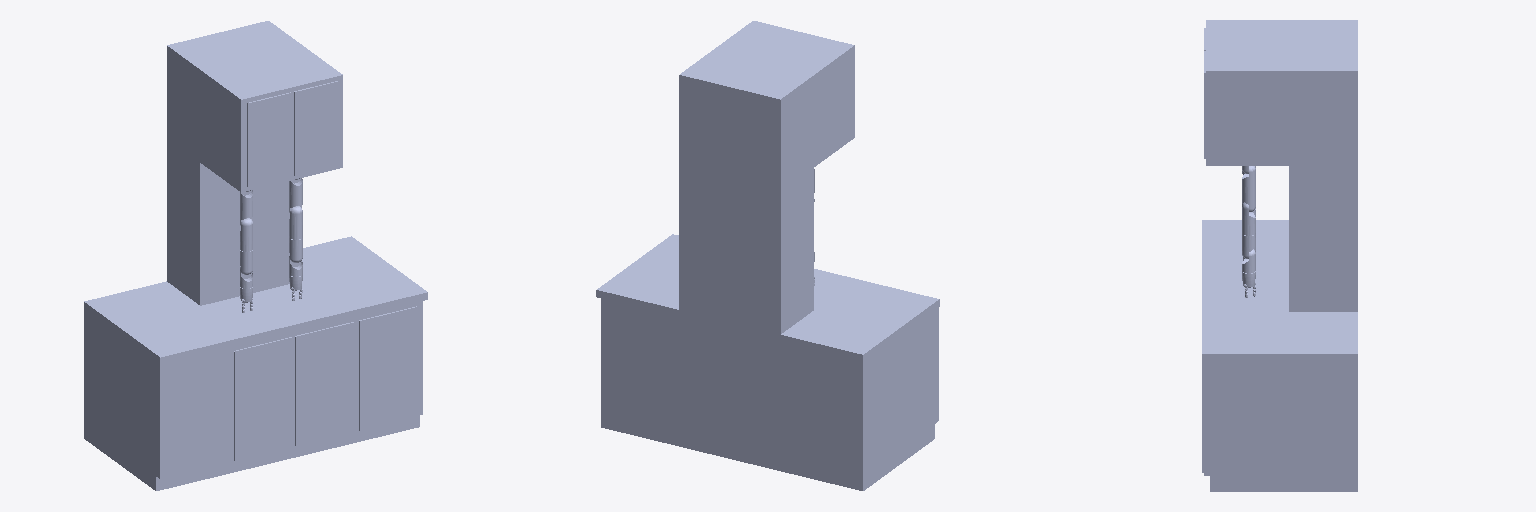
--- What the picture shows (computed from the rendered views, not written in the file) ---
The picture shows the robot from 3 angles, left to right: view 1: azimuth 30°, elevation 25°; view 2: azimuth 150°, elevation 25°; view 3: azimuth 270°, elevation 25°; orthographic projection.
Robot: robot_chef_prueba_v6 — 37 links, 36 joints (24 revolute, 6 continuous, 6 fixed); root link base_link; default pose: all joints at 0.
Visible links, largest first — view 1: base_link; view 2: base_link; view 3: base_link.
Link boxes in pixels (x1,y1,x2,y2): base_link: [84, 21, 427, 490]; base_link: [596, 21, 939, 490]; base_link: [1202, 20, 1357, 491].
Bounding box of the posed robot: 1.84 × 0.91 × 2.45 m (x, y, z).
Meshes: 37 distinct files referenced, 37 mesh visuals loaded (37 binary STL).

URDF robot description (robot_chef_prueba_v6):
<?xml version="1.0" encoding="utf-8"?>
<!-- This URDF was automatically created by SolidWorks to URDF Exporter! Originally created by Stephen Brawner ([email redacted]) 
     Commit Version: 1.5.1-0-g916b5db  Build Version: 1.5.7152.31018
     For more information, please see http://wiki.ros.org/sw_urdf_exporter -->
<robot
  name="robot_chef_prueba_v6">
  <link
    name="base_link">
    <inertial>
      <origin
        xyz="-0.037242 -0.4829 -0.87131"
        rpy="0 0 0" />
      <mass
        value="2114.6" />
      <inertia
        ixx="1214.9"
        ixy="0.31415"
        ixz="-8.4286"
        iyy="1499.6"
        iyz="-33.332"
        izz="570.71" />
    </inertial>
    <visual>
      <origin
        xyz="0 0 0"
        rpy="0 0 0" />
      <geometry>
        <mesh
          filename="package://robot_chef_prueba_v6/meshes/base_link.STL" />
      </geometry>
      <material
        name="">
        <color
          rgba="0.79216 0.81961 0.93333 1" />
      </material>
    </visual>
    <collision>
      <origin
        xyz="0 0 0"
        rpy="0 0 0" />
      <geometry>
        <mesh
          filename="package://robot_chef_prueba_v6/meshes/base_link.STL" />
      </geometry>
    </collision>
  </link>
  <link
    name="iz1_Link">
    <inertial>
      <origin
        xyz="0.046899019277028 0.00599386120501055 2.22519419557088E-10"
        rpy="0 0 0" />
      <mass
        value="0.450104915206598" />
      <inertia
        ixx="0.000334303263892515"
        ixy="9.96318726703731E-05"
        ixz="-1.67196559200719E-10"
        iyy="0.000690198693942158"
        iyz="3.88296382489624E-10"
        izz="0.000670525862276053" />
    </inertial>
    <visual>
      <origin
        xyz="0 0 0"
        rpy="0 0 0" />
      <geometry>
        <mesh
          filename="package://robot_chef_prueba_v6/meshes/iz1_Link.STL" />
      </geometry>
      <material
        name="">
        <color
          rgba="0.792156862745098 0.819607843137255 0.933333333333333 1" />
      </material>
    </visual>
    <collision>
      <origin
        xyz="0 0 0"
        rpy="0 0 0" />
      <geometry>
        <mesh
          filename="package://robot_chef_prueba_v6/meshes/iz1_Link.STL" />
      </geometry>
    </collision>
  </link>
  <joint
    name="i1"
    type="continuous">
    <origin
      xyz="-0.198356243226931 -0.7 0"
      rpy="3.14159265358979 -1.5707963267949 0" />
    <parent
      link="base_link" />
    <child
      link="iz1_Link" />
    <axis
      xyz="1 0 0" />
  </joint>
  <link
    name="iz2_Link">
    <inertial>
      <origin
        xyz="0.123170245762431 2.24128305997828E-07 -0.00580584423243669"
        rpy="0 0 0" />
      <mass
        value="1.05627303687569" />
      <inertia
        ixx="0.000800954354611823"
        ixy="-8.19290612147664E-09"
        ixz="1.82012426586531E-09"
        iyy="0.00563952897742919"
        iyz="-1.10969299836202E-09"
        izz="0.0056911560526873" />
    </inertial>
    <visual>
      <origin
        xyz="0 0 0"
        rpy="0 0 0" />
      <geometry>
        <mesh
          filename="package://robot_chef_prueba_v6/meshes/iz2_Link.STL" />
      </geometry>
      <material
        name="">
        <color
          rgba="0.792156862745098 0.819607843137255 0.933333333333333 1" />
      </material>
    </visual>
    <collision>
      <origin
        xyz="0 0 0"
        rpy="0 0 0" />
      <geometry>
        <mesh
          filename="package://robot_chef_prueba_v6/meshes/iz2_Link.STL" />
      </geometry>
    </collision>
  </link>
  <joint
    name="i2"
    type="revolute">
    <origin
      xyz="-0.00357189922674747 0 0"
      rpy="1.5707963267949 0 -3.14159265358979" />
    <parent
      link="iz1_Link" />
    <child
      link="iz2_Link" />
    <axis
      xyz="0 0 1" />
    <limit
      lower="-1.3963"
      upper="1.3963"
      effort="0"
      velocity="0" />
  </joint>
  <link
    name="iz3_Link">
    <inertial>
      <origin
        xyz="-0.0820008178809861 -2.51271962209421E-07 -0.00507737401116559"
        rpy="0 0 0" />
      <mass
        value="0.725662148891879" />
      <inertia
        ixx="0.00057017315857775"
        ixy="6.96000352801363E-09"
        ixz="0.000235262219959166"
        iyy="0.00221358505941085"
        iyz="8.70563297078182E-09"
        izz="0.00224067994548019" />
    </inertial>
    <visual>
      <origin
        xyz="0 0 0"
        rpy="0 0 0" />
      <geometry>
        <mesh
          filename="package://robot_chef_prueba_v6/meshes/iz3_Link.STL" />
      </geometry>
      <material
        name="">
        <color
          rgba="0.792156862745098 0.819607843137255 0.933333333333333 1" />
      </material>
    </visual>
    <collision>
      <origin
        xyz="0 0 0"
        rpy="0 0 0" />
      <geometry>
        <mesh
          filename="package://robot_chef_prueba_v6/meshes/iz3_Link.STL" />
      </geometry>
    </collision>
  </link>
  <joint
    name="i3"
    type="revolute">
    <origin
      xyz="0.248000000000001 0 0"
      rpy="3.14159265358979 0 -3.14159265358979" />
    <parent
      link="iz2_Link" />
    <child
      link="iz3_Link" />
    <axis
      xyz="0 0 1" />
    <limit
      lower="-1.3963"
      upper="1.3963"
      effort="0"
      velocity="0" />
  </joint>
  <link
    name="iz4_Link">
    <inertial>
      <origin
        xyz="-0.0936340655859038 -3.26723792187789E-08 -0.00454395848901257"
        rpy="0 0 0" />
      <mass
        value="0.613865486215885" />
      <inertia
        ixx="0.000458594108253679"
        ixy="-1.07774988503502E-09"
        ixz="-0.000141736411306983"
        iyy="0.00119500344851908"
        iyz="-2.94085219447195E-09"
        izz="0.00121551589680621" />
    </inertial>
    <visual>
      <origin
        xyz="0 0 0"
        rpy="0 0 0" />
      <geometry>
        <mesh
          filename="package://robot_chef_prueba_v6/meshes/iz4_Link.STL" />
      </geometry>
      <material
        name="">
        <color
          rgba="0.792156862745098 0.819607843137255 0.933333333333333 1" />
      </material>
    </visual>
    <collision>
      <origin
        xyz="0 0 0"
        rpy="0 0 0" />
      <geometry>
        <mesh
          filename="package://robot_chef_prueba_v6/meshes/iz4_Link.STL" />
      </geometry>
    </collision>
  </link>
  <joint
    name="i4"
    type="continuous">
    <origin
      xyz="-0.135000000000002 0 0"
      rpy="0.00240768248758283 0 0" />
    <parent
      link="iz3_Link" />
    <child
      link="iz4_Link" />
    <axis
      xyz="1 0 0" />
  </joint>
  <link
    name="iz5_Link">
    <inertial>
      <origin
        xyz="-0.052664238732409 -2.9966948608684E-07 -0.00770287929963565"
        rpy="0 0 0" />
      <mass
        value="0.441095544298267" />
      <inertia
        ixx="0.000334974664613456"
        ixy="-4.5518055062031E-09"
        ixz="0.00011176763930799"
        iyy="0.000773087753603316"
        iyz="9.9887682840268E-09"
        izz="0.000808220391854739" />
    </inertial>
    <visual>
      <origin
        xyz="0 0 0"
        rpy="0 0 0" />
      <geometry>
        <mesh
          filename="package://robot_chef_prueba_v6/meshes/iz5_Link.STL" />
      </geometry>
      <material
        name="">
        <color
          rgba="0.792156862745098 0.819607843137255 0.933333333333333 1" />
      </material>
    </visual>
    <collision>
      <origin
        xyz="0 0 0"
        rpy="0 0 0" />
      <geometry>
        <mesh
          filename="package://robot_chef_prueba_v6/meshes/iz5_Link.STL" />
      </geometry>
    </collision>
  </link>
  <joint
    name="i5"
    type="revolute">
    <origin
      xyz="-0.162999999999993 0 0"
      rpy="3.14159265358979 0 0" />
    <parent
      link="iz4_Link" />
    <child
      link="iz5_Link" />
    <axis
      xyz="0 0 1" />
    <limit
      lower="-1.2217"
      upper="1.3963"
      effort="0"
      velocity="0" />
  </joint>
  <link
    name="iz6_Link">
    <inertial>
      <origin
        xyz="-0.0703002600247344 4.1717175203182E-07 -2.1094237467878E-15"
        rpy="0 0 0" />
      <mass
        value="0.412559191037482" />
      <inertia
        ixx="0.000291363474329428"
        ixy="6.20991320193826E-09"
        ixz="-2.01551792960855E-16"
        iyy="0.000379319131169277"
        iyz="-8.62997824244149E-16"
        izz="0.000379318429622878" />
    </inertial>
    <visual>
      <origin
        xyz="0 0 0"
        rpy="0 0 0" />
      <geometry>
        <mesh
          filename="package://robot_chef_prueba_v6/meshes/iz6_Link.STL" />
      </geometry>
      <material
        name="">
        <color
          rgba="0.792156862745098 0.819607843137255 0.933333333333333 1" />
      </material>
    </visual>
    <collision>
      <origin
        xyz="0 0 0"
        rpy="0 0 0" />
      <geometry>
        <mesh
          filename="package://robot_chef_prueba_v6/meshes/iz6_Link.STL" />
      </geometry>
    </collision>
  </link>
  <joint
    name="i6"
    type="continuous">
    <origin
      xyz="-0.0800000000000022 0 0"
      rpy="-0.523598775598298 0 0" />
    <parent
      link="iz5_Link" />
    <child
      link="iz6_Link" />
    <axis
      xyz="1 0 0" />
  </joint>
  <link
    name="iz6_11Link">
    <inertial>
      <origin
        xyz="0.002073 0 -0.0020381"
        rpy="0 0 0" />
      <mass
        value="0.0067607" />
      <inertia
        ixx="4.6872E-07"
        ixy="-3.8381E-22"
        ixz="-5.2221E-08"
        iyy="3.186E-07"
        iyz="3.6396E-23"
        izz="4.7056E-07" />
    </inertial>
    <visual>
      <origin
        xyz="0 0 0"
        rpy="0 0 0" />
      <geometry>
        <mesh
          filename="package://robot_chef_prueba_v6/meshes/iz6_11Link.STL" />
      </geometry>
      <material
        name="">
        <color
          rgba="0.79216 0.81961 0.93333 1" />
      </material>
    </visual>
    <collision>
      <origin
        xyz="0 0 0"
        rpy="0 0 0" />
      <geometry>
        <mesh
          filename="package://robot_chef_prueba_v6/meshes/iz6_11Link.STL" />
      </geometry>
    </collision>
  </link>
  <joint
    name="i6_11"
    type="revolute">
    <origin
      xyz="-0.112 0.0121 0.020958"
      rpy="1.5708 -1.0472 1.5708" />
    <parent
      link="iz6_Link" />
    <child
      link="iz6_11Link" />
    <axis
      xyz="0 1 0" />
    <limit
      lower="-0.34907"
      upper="0.34907"
      effort="0"
      velocity="0" />
  </joint>
  <link
    name="iz6_12Link">
    <inertial>
      <origin
        xyz="0.014835 1.5186E-11 -2.5109E-05"
        rpy="0 0 0" />
      <mass
        value="0.003519" />
      <inertia
        ixx="1.2963E-07"
        ixy="-2.0603E-16"
        ixz="-9.698E-14"
        iyy="1.8447E-07"
        iyz="1.5253E-11"
        izz="2.2932E-07" />
    </inertial>
    <visual>
      <origin
        xyz="0 0 0"
        rpy="0 0 0" />
      <geometry>
        <mesh
          filename="package://robot_chef_prueba_v6/meshes/iz6_12Link.STL" />
      </geometry>
      <material
        name="">
        <color
          rgba="0.79216 0.81961 0.93333 1" />
      </material>
    </visual>
    <collision>
      <origin
        xyz="0 0 0"
        rpy="0 0 0" />
      <geometry>
        <mesh
          filename="package://robot_chef_prueba_v6/meshes/iz6_12Link.STL" />
      </geometry>
    </collision>
  </link>
  <joint
    name="i6_12"
    type="fixed">
    <origin
      xyz="0.00794974746830573 0 -0.00494974746830568"
      rpy="0 1.5707963267949 0" />
    <parent
      link="iz6_11Link" />
    <child
      link="iz6_12Link" />
    <axis
      xyz="0 0 0" />
  </joint>
  <link
    name="iz6_13Link">
    <inertial>
      <origin
        xyz="-0.014397 1.1102E-16 -5.2807E-05"
        rpy="0 0 0" />
      <mass
        value="0.0048858" />
      <inertia
        ixx="1.5827E-07"
        ixy="4.9687E-14"
        ixz="7.9359E-11"
        iyy="3.9472E-07"
        iyz="4.0009E-12"
        izz="3.4484E-07" />
    </inertial>
    <visual>
      <origin
        xyz="0 0 0"
        rpy="0 0 0" />
      <geometry>
        <mesh
          filename="package://robot_chef_prueba_v6/meshes/iz6_13Link.STL" />
      </geometry>
      <material
        name="">
        <color
          rgba="0.79216 0.81961 0.93333 1" />
      </material>
    </visual>
    <collision>
      <origin
        xyz="0 0 0"
        rpy="0 0 0" />
      <geometry>
        <mesh
          filename="package://robot_chef_prueba_v6/meshes/iz6_13Link.STL" />
      </geometry>
    </collision>
  </link>
  <joint
    name="i6_13"
    type="revolute">
    <origin
      xyz="0.0244852813742378 0 0"
      rpy="3.14159265358979 0 3.14159265358979" />
    <parent
      link="iz6_12Link" />
    <child
      link="iz6_13Link" />
    <axis
      xyz="0 1 0" />
    <limit
      lower="0"
      upper="0.69813"
      effort="0"
      velocity="0" />
  </joint>
  <link
    name="iz6_14Link">
    <inertial>
      <origin
        xyz="0.011439 -7.5592E-12 1.2074E-11"
        rpy="0 0 0" />
      <mass
        value="0.0051527" />
      <inertia
        ixx="1.9908E-07"
        ixy="-1.6224E-16"
        ixz="7.093E-16"
        iyy="3.043E-07"
        iyz="-1.1218E-13"
        izz="3.2265E-07" />
    </inertial>
    <visual>
      <origin
        xyz="0 0 0"
        rpy="0 0 0" />
      <geometry>
        <mesh
          filename="package://robot_chef_prueba_v6/meshes/iz6_14Link.STL" />
      </geometry>
      <material
        name="">
        <color
          rgba="0.79216 0.81961 0.93333 1" />
      </material>
    </visual>
    <collision>
      <origin
        xyz="0 0 0"
        rpy="0 0 0" />
      <geometry>
        <mesh
          filename="package://robot_chef_prueba_v6/meshes/iz6_14Link.STL" />
      </geometry>
    </collision>
  </link>
  <joint
    name="i6_14"
    type="revolute">
    <origin
      xyz="-0.0300000000000008 0 -5.38898154983092E-05"
      rpy="3.14159265358979 0 3.14159265358979" />
    <parent
      link="iz6_13Link" />
    <child
      link="iz6_14Link" />
    <axis
      xyz="0 1 0" />
    <limit
      lower="0"
      upper="1.0472"
      effort="0"
      velocity="0" />
  </joint>
  <link
    name="iz6_21Link">
    <inertial>
      <origin
        xyz="0.00207298341630333 3.33066907387547E-16 -0.00203813228672634"
        rpy="0 0 0" />
      <mass
        value="0.00676074066693878" />
      <inertia
        ixx="4.68720414197714E-07"
        ixy="-1.45583787809333E-22"
        ixz="-5.22208672124069E-08"
        iyy="3.1860119381616E-07"
        iyz="1.22422730657848E-22"
        izz="4.70556835793397E-07" />
    </inertial>
    <visual>
      <origin
        xyz="0 0 0"
        rpy="0 0 0" />
      <geometry>
        <mesh
          filename="package://robot_chef_prueba_v6/meshes/iz6_21Link.STL" />
      </geometry>
      <material
        name="">
        <color
          rgba="0.792156862745098 0.819607843137255 0.933333333333333 1" />
      </material>
    </visual>
    <collision>
      <origin
        xyz="0 0 0"
        rpy="0 0 0" />
      <geometry>
        <mesh
          filename="package://robot_chef_prueba_v6/meshes/iz6_21Link.STL" />
      </geometry>
    </collision>
  </link>
  <joint
    name="i6_21"
    type="revolute">
    <origin
      xyz="-0.111980256121069 -0.0241447734505178 0"
      rpy="-1.5707963267949 0 -1.5707963267949" />
    <parent
      link="iz6_Link" />
    <child
      link="iz6_21Link" />
    <axis
      xyz="0 1 0" />
    <limit
      lower="-0.34907"
      upper="0.34907"
      effort="0"
      velocity="0" />
  </joint>
  <link
    name="iz6_22Link">
    <inertial>
      <origin
        xyz="0.0147808838974951 3.2568392427379E-12 -7.73357572425581E-10"
        rpy="0 0 0" />
      <mass
        value="0.00353863572563513" />
      <inertia
        ixx="1.30103088217276E-07"
        ixy="1.60995021566037E-16"
        ixz="-9.6924110433585E-14"
        iyy="1.84942425350664E-07"
        iyz="1.52525804205835E-11"
        izz="2.29378189918398E-07" />
    </inertial>
    <visual>
      <origin
        xyz="0 0 0"
        rpy="0 0 0" />
      <geometry>
        <mesh
          filename="package://robot_chef_prueba_v6/meshes/iz6_22Link.STL" />
      </geometry>
      <material
        name="">
        <color
          rgba="0.792156862745098 0.819607843137255 0.933333333333333 1" />
      </material>
    </visual>
    <collision>
      <origin
        xyz="0 0 0"
        rpy="0 0 0" />
      <geometry>
        <mesh
          filename="package://robot_chef_prueba_v6/meshes/iz6_22Link.STL" />
      </geometry>
    </collision>
  </link>
  <joint
    name="i6_22"
    type="fixed">
    <origin
      xyz="0.0079497474683059 0 -0.00494974746830568"
      rpy="0 1.5707963267949 0" />
    <parent
      link="iz6_21Link" />
    <child
      link="iz6_22Link" />
    <axis
      xyz="0 0 0" />
  </joint>
  <link
    name="iz6_23Link">
    <inertial>
      <origin
        xyz="-0.0143971864964466 -2.22044604925031E-16 -5.28069651649921E-05"
        rpy="0 0 0" />
      <mass
        value="0.00488582803282185" />
      <inertia
        ixx="1.58268955272717E-07"
        ixy="4.96872175482905E-14"
        ixz="7.93592997103557E-11"
        iyy="3.94717166797732E-07"
        iyz="4.00086107293317E-12"
        izz="3.44839984171498E-07" />
    </inertial>
    <visual>
      <origin
        xyz="0 0 0"
        rpy="0 0 0" />
      <geometry>
        <mesh
          filename="package://robot_chef_prueba_v6/meshes/iz6_23Link.STL" />
      </geometry>
      <material
        name="">
        <color
          rgba="0.792156862745098 0.819607843137255 0.933333333333333 1" />
      </material>
    </visual>
    <collision>
      <origin
        xyz="0 0 0"
        rpy="0 0 0" />
      <geometry>
        <mesh
          filename="package://robot_chef_prueba_v6/meshes/iz6_23Link.STL" />
      </geometry>
    </collision>
  </link>
  <joint
    name="i6_23"
    type="revolute">
    <origin
      xyz="0.0244852813742391 0 0"
      rpy="0 0 3.14159265358979" />
    <parent
      link="iz6_22Link" />
    <child
      link="iz6_23Link" />
    <axis
      xyz="0 1 0" />
    <limit
      lower="-0.69813"
      upper="0"
      effort="0"
      velocity="0" />
  </joint>
  <link
    name="iz6_24Link">
    <inertial>
      <origin
        xyz="0.011438965446775 3.09641201567956E-12 1.00829344873432E-11"
        rpy="0 0 0" />
      <mass
        value="0.00515270612839311" />
      <inertia
        ixx="1.99078387827487E-07"
        ixy="4.41115249740252E-16"
        ixz="5.3967047123003E-16"
        iyy="3.04304176822823E-07"
        iyz="-1.12022111777851E-13"
        izz="3.22653914398189E-07" />
    </inertial>
    <visual>
      <origin
        xyz="0 0 0"
        rpy="0 0 0" />
      <geometry>
        <mesh
          filename="package://robot_chef_prueba_v6/meshes/iz6_24Link.STL" />
      </geometry>
      <material
        name="">
        <color
          rgba="0.792156862745098 0.819607843137255 0.933333333333333 1" />
      </material>
    </visual>
    <collision>
      <origin
        xyz="0 0 0"
        rpy="0 0 0" />
      <geometry>
        <mesh
          filename="package://robot_chef_prueba_v6/meshes/iz6_24Link.STL" />
      </geometry>
    </collision>
  </link>
  <joint
    name="i6_24"
    type="revolute">
    <origin
      xyz="-0.0299999999999999 0 -5.38898154972822E-05"
      rpy="0 0 3.14159265358979" />
    <parent
      link="iz6_23Link" />
    <child
      link="iz6_24Link" />
    <axis
      xyz="0 1 0" />
    <limit
      lower="0"
      upper="1.0472"
      effort="0"
      velocity="0" />
  </joint>
  <link
    name="iz6_31Link">
    <inertial>
      <origin
        xyz="0.00207298341630247 -9.71445146547012E-16 -0.00203813228672678"
        rpy="0 0 0" />
      <mass
        value="0.00676074066693878" />
      <inertia
        ixx="4.68720414197715E-07"
        ixy="-1.89293045352401E-20"
        ixz="-5.22208672124072E-08"
        iyy="3.1860119381616E-07"
        iyz="4.66286802159989E-20"
        izz="4.70556835793398E-07" />
    </inertial>
    <visual>
      <origin
        xyz="0 0 0"
        rpy="0 0 0" />
      <geometry>
        <mesh
          filename="package://robot_chef_prueba_v6/meshes/iz6_31Link.STL" />
      </geometry>
      <material
        name="">
        <color
          rgba="0.792156862745098 0.819607843137255 0.933333333333333 1" />
      </material>
    </visual>
    <collision>
      <origin
        xyz="0 0 0"
        rpy="0 0 0" />
      <geometry>
        <mesh
          filename="package://robot_chef_prueba_v6/meshes/iz6_31Link.STL" />
      </geometry>
    </collision>
  </link>
  <joint
    name="i6_31"
    type="revolute">
    <origin
      xyz="-0.112000000000001 0.0121 -0.0209578147715833"
      rpy="1.5707963267952 1.04719755119658 1.5707963267949" />
    <parent
      link="iz6_Link" />
    <child
      link="iz6_31Link" />
    <axis
      xyz="0 1 0" />
    <limit
      lower="-0.34907"
      upper="0.34907"
      effort="0"
      velocity="0" />
  </joint>
  <link
    name="iz6_32Link">
    <inertial>
      <origin
        xyz="0.0148354582126317 1.51857415531254E-11 2.51078533057836E-05"
        rpy="0 0 0" />
      <mass
        value="0.00351900075828717" />
      <inertia
        ixx="1.29628985849003E-07"
        ixy="-2.06025289654529E-16"
        ixz="-9.69797811870158E-14"
        iyy="1.84468321490573E-07"
        iyz="1.52526941879369E-11"
        izz="2.29316828938797E-07" />
    </inertial>
    <visual>
      <origin
        xyz="0 0 0"
        rpy="0 0 0" />
      <geometry>
        <mesh
          filename="package://robot_chef_prueba_v6/meshes/iz6_32Link.STL" />
      </geometry>
      <material
        name="">
        <color
          rgba="0.792156862745098 0.819607843137255 0.933333333333333 1" />
      </material>
    </visual>
    <collision>
      <origin
        xyz="0 0 0"
        rpy="0 0 0" />
      <geometry>
        <mesh
          filename="package://robot_chef_prueba_v6/meshes/iz6_32Link.STL" />
      </geometry>
    </collision>
  </link>
  <joint
    name="i6_32"
    type="fixed">
    <origin
      xyz="0.0079497474683059 0 -0.00494974746830579"
      rpy="3.14159263868863 1.5707963267949 0" />
    <parent
      link="iz6_31Link" />
    <child
      link="iz6_32Link" />
    <axis
      xyz="0 0 0" />
  </joint>
  <link
    name="iz6_33Link">
    <inertial>
      <origin
        xyz="-0.0143971864964463 2.38697950294409E-15 -5.28069651656304E-05"
        rpy="0 0 0" />
      <mass
        value="0.00488582803282169" />
      <inertia
        ixx="1.58268955272713E-07"
        ixy="4.96872173811149E-14"
        ixz="7.93592997099076E-11"
        iyy="3.94717166797715E-07"
        iyz="4.00086107403038E-12"
        izz="3.4483998417148E-07" />
    </inertial>
    <visual>
      <origin
        xyz="0 0 0"
        rpy="0 0 0" />
      <geometry>
        <mesh
          filename="package://robot_chef_prueba_v6/meshes/iz6_33Link.STL" />
      </geometry>
      <material
        name="">
        <color
          rgba="0.792156862745098 0.819607843137255 0.933333333333333 1" />
      </material>
    </visual>
    <collision>
      <origin
        xyz="0 0 0"
        rpy="0 0 0" />
      <geometry>
        <mesh
          filename="package://robot_chef_prueba_v6/meshes/iz6_33Link.STL" />
      </geometry>
    </collision>
  </link>
  <joint
    name="i6_33"
    type="revolute">
    <origin
      xyz="0.0244852813742388 0 0"
      rpy="0 0 3.14159265358979" />
    <parent
      link="iz6_32Link" />
    <child
      link="iz6_33Link" />
    <axis
      xyz="0 1 0" />
    <limit
      lower="0"
      upper="0.69813"
      effort="0"
      velocity="0" />
  </joint>
  <link
    name="iz6_34Link">
    <inertial>
      <origin
        xyz="0.011439 3.0959E-12 1.0083E-11"
        rpy="0 0 0" />
      <mass
        value="0.0051527" />
      <inertia
        ixx="1.9908E-07"
        ixy="4.4112E-16"
        ixz="5.3967E-16"
        iyy="3.043E-07"
        iyz="-1.1202E-13"
        izz="3.2265E-07" />
    </inertial>
    <visual>
      <origin
        xyz="0 0 0"
        rpy="0 0 0" />
      <geometry>
        <mesh
          filename="package://robot_chef_prueba_v6/meshes/iz6_34Link.STL" />
      </geometry>
      <material
        name="">
        <color
          rgba="0.79216 0.81961 0.93333 1" />
      </material>
    </visual>
    <collision>
      <origin
        xyz="0 0 0"
        rpy="0 0 0" />
      <geometry>
        <mesh
          filename="package://robot_chef_prueba_v6/meshes/iz6_34Link.STL" />
      </geometry>
    </collision>
  </link>
  <joint
    name="i6_34"
    type="revolute">
    <origin
      xyz="-0.0299999999999999 0 -5.38898154979206E-05"
      rpy="0 0 3.14159265358979" />
    <parent
      link="iz6_33Link" />
    <child
      link="iz6_34Link" />
    <axis
      xyz="0 1 0" />
    <limit
      lower="-1.0472"
      upper="0"
      effort="0"
      velocity="0" />
  </joint>
  <link
    name="de1_Link">
    <inertial>
      <origin
        xyz="0.046899 0.0059939 2.2252E-10"
        rpy="0 0 0" />
      <mass
        value="0.4501" />
      <inertia
        ixx="0.0003343"
        ixy="9.9632E-05"
        ixz="-1.672E-10"
        iyy="0.0006902"
        iyz="3.883E-10"
        izz="0.00067053" />
    </inertial>
    <visual>
      <origin
        xyz="0 0 0"
        rpy="0 0 0" />
      <geometry>
        <mesh
          filename="package://robot_chef_prueba_v6/meshes/de1_Link.STL" />
      </geometry>
      <material
        name="">
        <color
          rgba="0.79216 0.81961 0.93333 1" />
      </material>
    </visual>
    <collision>
      <origin
        xyz="0 0 0"
        rpy="0 0 0" />
      <geometry>
        <mesh
          filename="package://robot_chef_prueba_v6/meshes/de1_Link.STL" />
      </geometry>
    </collision>
  </link>
  <joint
    name="d1"
    type="continuous">
    <origin
      xyz="0.14164375677307 -0.7 0"
      rpy="3.1347714600349 -1.5707963267949 0" />
    <parent
      link="base_link" />
    <child
      link="de1_Link" />
    <axis
      xyz="1 0 0" />
  </joint>
  <link
    name="de2_Link">
    <inertial>
      <origin
        xyz="0.123170214478795 9.0971106384341E-05 -0.00580582176623101"
        rpy="0 0 0" />
      <mass
        value="1.0562732565036" />
      <inertia
        ixx="0.000800957406783288"
        ixy="-3.57261281014573E-06"
        ixz="1.92382598231357E-09"
        iyy="0.00563952595673453"
        iyz="-1.07608583509343E-09"
        izz="0.00569115678280626" />
    </inertial>
    <visual>
      <origin
        xyz="0 0 0"
        rpy="0 0 0" />
      <geometry>
        <mesh
          filename="package://robot_chef_prueba_v6/meshes/de2_Link.STL" />
      </geometry>
      <material
        name="">
        <color
          rgba="0.792156862745098 0.819607843137255 0.933333333333333 1" />
      </material>
    </visual>
    <collision>
      <origin
        xyz="0 0 0"
        rpy="0 0 0" />
      <geometry>
        <mesh
          filename="package://robot_chef_prueba_v6/meshes/de2_Link.STL" />
      </geometry>
    </collision>
  </link>
  <joint
    name="d2"
    type="revolute">
    <origin
      xyz="-0.00357189922674735 0 0"
      rpy="1.57079632679489 0 3.14159265302779" />
    <parent
      link="de1_Link" />
    <child
      link="de2_Link" />
    <axis
      xyz="0 0 1" />
    <limit
      lower="-1.3963"
      upper="1.3963"
      effort="0"
      velocity="0" />
  </joint>
  <link
    name="de3_Link">
    <inertial>
      <origin
        xyz="-0.0820007599456525 0.000182478641151729 -0.00507736778635681"
        rpy="0 0 0" />
      <mass
        value="0.725662074286973" />
      <inertia
        ixx="0.000570173201368613"
        ixy="6.53209317159868E-09"
        ixz="0.000235262196735889"
        iyy="0.00221358517979188"
        iyz="8.50220677416753E-09"
        izz="0.00224067903647917" />
    </inertial>
    <visual>
      <origin
        xyz="0 0 0"
        rpy="0 0 0" />
      <geometry>
        <mesh
          filename="package://robot_chef_prueba_v6/meshes/de3_Link.STL" />
      </geometry>
      <material
        name="">
        <color
          rgba="0.792156862745098 0.819607843137255 0.933333333333333 1" />
      </material>
    </visual>
    <collision>
      <origin
        xyz="0 0 0"
        rpy="0 0 0" />
      <geometry>
        <mesh
          filename="package://robot_chef_prueba_v6/meshes/de3_Link.STL" />
      </geometry>
    </collision>
  </link>
  <joint
    name="d3"
    type="revolute">
    <origin
      xyz="0.248 0 0"
      rpy="3.14159265358979 0 3.14159250263411" />
    <parent
      link="de2_Link" />
    <child
      link="de3_Link" />
    <axis
      xyz="0 0 1" />
    <limit
      lower="-1.3963"
      upper="1.3963"
      effort="0"
      velocity="0" />
  </joint>
  <link
    name="de4_Link">
    <inertial>
      <origin
        xyz="-0.0936339918477448 0.000182680104167721 -0.00454394427635862"
        rpy="0 0 0" />
      <mass
        value="0.613865661046716" />
      <inertia
        ixx="0.000458594275799547"
        ixy="-1.02156716716133E-09"
        ixz="-0.00014173637060252"
        iyy="0.0011950033793905"
        iyz="-2.7894848142881E-09"
        izz="0.00121551627347461" />
    </inertial>
    <visual>
      <origin
        xyz="0 0 0"
        rpy="0 0 0" />
      <geometry>
        <mesh
          filename="package://robot_chef_prueba_v6/meshes/de4_Link.STL" />
      </geometry>
      <material
        name="">
        <color
          rgba="0.792156862745098 0.819607843137255 0.933333333333333 1" />
      </material>
    </visual>
    <collision>
      <origin
        xyz="0 0 0"
        rpy="0 0 0" />
      <geometry>
        <mesh
          filename="package://robot_chef_prueba_v6/meshes/de4_Link.STL" />
      </geometry>
    </collision>
  </link>
  <joint
    name="d4"
    type="continuous">
    <origin
      xyz="-0.135000005935467 0 0"
      rpy="0 0 0" />
    <parent
      link="de3_Link" />
    <child
      link="de4_Link" />
    <axis
      xyz="1 0 0" />
  </joint>
  <link
    name="de5_Link">
    <inertial>
      <origin
        xyz="-0.0526641873849999 -0.00018299393018642 -0.00770286576105161"
        rpy="0 0 0" />
      <mass
        value="0.441095446672236" />
      <inertia
        ixx="0.000334974668607833"
        ixy="-4.54383162948584E-09"
        ixz="0.000111767660106979"
        iyy="0.000773088201308897"
        iyz="9.24505582886993E-09"
        izz="0.000808219573594617" />
    </inertial>
    <visual>
      <origin
        xyz="0 0 0"
        rpy="0 0 0" />
      <geometry>
        <mesh
          filename="package://robot_chef_prueba_v6/meshes/de5_Link.STL" />
      </geometry>
      <material
        name="">
        <color
          rgba="0.792156862745098 0.819607843137255 0.933333333333333 1" />
      </material>
    </visual>
    <collision>
      <origin
        xyz="0 0 0"
        rpy="0 0 0" />
      <geometry>
        <mesh
          filename="package://robot_chef_prueba_v6/meshes/de5_Link.STL" />
      </geometry>
    </collision>
  </link>
  <joint
    name="d5"
    type="revolute">
    <origin
      xyz="-0.162999994064533 0 0"
      rpy="3.14159265358979 0 0" />
    <parent
      link="de4_Link" />
    <child
      link="de5_Link" />
    <axis
      xyz="0 0 1" />
    <limit
      lower="-1.2217"
      upper="1.2217"
      effort="0"
      velocity="0" />
  </joint>
  <link
    name="de6_Link">
    <inertial>
      <origin
        xyz="-0.0703001869336869 0.000158655417427489 -9.13588024946677E-05"
        rpy="0 0 0" />
      <mass
        value="0.412559191037483" />
      <inertia
        ixx="0.000291363474320705"
        ixy="6.20996241571198E-09"
        ixz="8.58326894555804E-14"
        iyy="0.000379319131165864"
        iyz="1.53482370042479E-16"
        izz="0.000379318429617365" />
    </inertial>
    <visual>
      <origin
        xyz="0 0 0"
        rpy="0 0 0" />
      <geometry>
        <mesh
          filename="package://robot_chef_prueba_v6/meshes/de6_Link.STL" />
      </geometry>
      <material
        name="">
        <color
          rgba="0.792156862745098 0.819607843137255 0.933333333333333 1" />
      </material>
    </visual>
    <collision>
      <origin
        xyz="0 0 0"
        rpy="0 0 0" />
      <geometry>
        <mesh
          filename="package://robot_chef_prueba_v6/meshes/de6_Link.STL" />
      </geometry>
    </collision>
  </link>
  <joint
    name="d6"
    type="continuous">
    <origin
      xyz="-0.0800000057659613 0 0"
      rpy="-2.61799387799149 0 0" />
    <parent
      link="de5_Link" />
    <child
      link="de6_Link" />
    <axis
      xyz="1 0 0" />
  </joint>
  <link
    name="de6_11Link">
    <inertial>
      <origin
        xyz="0.00207298341630291 -0.000182717742395894 -0.0020380649616335"
        rpy="0 0 0" />
      <mass
        value="0.00676074066693876" />
      <inertia
        ixx="4.68720414197713E-07"
        ixy="2.67799723314043E-22"
        ixz="-5.22208672124071E-08"
        iyy="3.18601193816159E-07"
        iyz="-4.9246441259361E-23"
        izz="4.70556835793397E-07" />
    </inertial>
    <visual>
      <origin
        xyz="0 0 0"
        rpy="0 0 0" />
      <geometry>
        <mesh
          filename="package://robot_chef_prueba_v6/meshes/de6_11Link.STL" />
      </geometry>
      <material
        name="">
        <color
          rgba="0.792156862745098 0.819607843137255 0.933333333333333 1" />
      </material>
    </visual>
    <collision>
      <origin
        xyz="0 0 0"
        rpy="0 0 0" />
      <geometry>
        <mesh
          filename="package://robot_chef_prueba_v6/meshes/de6_11Link.STL" />
      </geometry>
    </collision>
  </link>
  <joint
    name="d6_11"
    type="revolute">
    <origin
      xyz="-0.111999994206837 0.0121000000622007 0.020957814881036"
      rpy="1.57079632874941 -1.04719755119659 1.57079632454688" />
    <parent
      link="de6_Link" />
    <child
      link="de6_11Link" />
    <axis
      xyz="0 1 0" />
    <limit
      lower="-0.34907"
      upper="0.34907"
      effort="0"
      velocity="0" />
  </joint>
  <link
    name="de6_12Link">
    <inertial>
      <origin
        xyz="0.0148353908875629 -0.000182717726968623 -2.5109393131606E-05"
        rpy="0 0 0" />
      <mass
        value="0.00351900075828588" />
      <inertia
        ixx="1.29628985849086E-07"
        ixy="-2.07164352206997E-16"
        ixz="-9.70913534836633E-14"
        iyy="1.84468321490368E-07"
        iyz="1.52526941857944E-11"
        izz="2.29316828938763E-07" />
    </inertial>
    <visual>
      <origin
        xyz="0 0 0"
        rpy="0 0 0" />
      <geometry>
        <mesh
          filename="package://robot_chef_prueba_v6/meshes/de6_12Link.STL" />
      </geometry>
      <material
        name="">
        <color
          rgba="0.792156862745098 0.819607843137255 0.933333333333333 1" />
      </material>
    </visual>
    <collision>
      <origin
        xyz="0 0 0"
        rpy="0 0 0" />
      <geometry>
        <mesh
          filename="package://robot_chef_prueba_v6/meshes/de6_12Link.STL" />
      </geometry>
    </collision>
  </link>
  <joint
    name="d6_12"
    type="fixed">
    <origin
      xyz="0.00794974746830357 0 -0.00494974746830623"
      rpy="0 1.5707963267949 0" />
    <parent
      link="de6_11Link" />
    <child
      link="de6_12Link" />
    <axis
      xyz="0 0 0" />
  </joint>
  <link
    name="de6_13Link">
    <inertial>
      <origin
        xyz="-0.0143971191714136 0.000182717742283622 -5.28069489779126E-05"
        rpy="0 0 0" />
      <mass
        value="0.00488582803282179" />
      <inertia
        ixx="1.58268955272894E-07"
        ixy="4.9685407168752E-14"
        ixz="7.93595093253214E-11"
        iyy="3.94717166797717E-07"
        iyz="4.00086107435386E-12"
        izz="3.44839984171305E-07" />
    </inertial>
    <visual>
      <origin
        xyz="0 0 0"
        rpy="0 0 0" />
      <geometry>
        <mesh
          filename="package://robot_chef_prueba_v6/meshes/de6_13Link.STL" />
      </geometry>
      <material
        name="">
        <color
          rgba="0.792156862745098 0.819607843137255 0.933333333333333 1" />
      </material>
    </visual>
    <collision>
      <origin
        xyz="0 0 0"
        rpy="0 0 0" />
      <geometry>
        <mesh
          filename="package://robot_chef_prueba_v6/meshes/de6_13Link.STL" />
      </geometry>
    </collision>
  </link>
  <joint
    name="d6_13"
    type="revolute">
    <origin
      xyz="0.0244852813742387 0 0"
      rpy="0 0 3.14159265358979" />
    <parent
      link="de6_12Link" />
    <child
      link="de6_13Link" />
    <axis
      xyz="0 1 0" />
    <limit
      lower="-0.69813"
      upper="0"
      effort="0"
      velocity="0" />
  </joint>
  <link
    name="de6_14Link">
    <inertial>
      <origin
        xyz="0.011438898164613 -0.000182717749867278 2.4931279263285E-11"
        rpy="0 0 0" />
      <mass
        value="0.0051527061096885" />
      <inertia
        ixx="1.99078387664651E-07"
        ixy="-1.63041381251731E-16"
        ixz="5.70404364116655E-16"
        iyy="3.04304173813706E-07"
        iyz="-1.12176703874171E-13"
        izz="3.22653911242141E-07" />
    </inertial>
    <visual>
      <origin
        xyz="0 0 0"
        rpy="0 0 0" />
      <geometry>
        <mesh
          filename="package://robot_chef_prueba_v6/meshes/de6_14Link.STL" />
      </geometry>
      <material
        name="">
        <color
          rgba="0.792156862745098 0.819607843137255 0.933333333333333 1" />
      </material>
    </visual>
    <collision>
      <origin
        xyz="0 0 0"
        rpy="0 0 0" />
      <geometry>
        <mesh
          filename="package://robot_chef_prueba_v6/meshes/de6_14Link.STL" />
      </geometry>
    </collision>
  </link>
  <joint
    name="d6_14"
    type="revolute">
    <origin
      xyz="-0.0300000000000604 0 -5.38897817764505E-05"
      rpy="0 0 -3.14159265358978" />
    <parent
      link="de6_13Link" />
    <child
      link="de6_14Link" />
    <axis
      xyz="0 1 0" />
    <limit
      lower="0"
      upper="1.0472"
      effort="0"
      velocity="0" />
  </joint>
  <link
    name="de6_21Link">
    <inertial>
      <origin
        xyz="0.00191474550051798 9.135870327448E-05 -0.00203806469590717"
        rpy="0 0 0" />
      <mass
        value="0.00676074066693877" />
      <inertia
        ixx="4.68720429102578E-07"
        ixy="-4.30266475213353E-15"
        ixz="-5.22208674744806E-08"
        iyy="3.1860119381616E-07"
        iyz="1.25201681016499E-14"
        izz="4.70556820888531E-07" />
    </inertial>
    <visual>
      <origin
        xyz="0 0 0"
        rpy="0 0 0" />
      <geometry>
        <mesh
          filename="package://robot_chef_prueba_v6/meshes/de6_21Link.STL" />
      </geometry>
      <material
        name="">
        <color
          rgba="0.792156862745098 0.819607843137255 0.933333333333333 1" />
      </material>
    </visual>
    <collision>
      <origin
        xyz="0 0 0"
        rpy="0 0 0" />
      <geometry>
        <mesh
          filename="package://robot_chef_prueba_v6/meshes/de6_21Link.STL" />
      </geometry>
    </collision>
  </link>
  <joint
    name="d6_21"
    type="revolute">
    <origin
      xyz="-0.111980250368517 -0.0241447733883282 0"
      rpy="-1.57079624537858 0 -1.57079647006012" />
    <parent
      link="de6_Link" />
    <child
      link="de6_21Link" />
    <axis
      xyz="0 0.999999999999997 0" />
    <limit
      lower="-0.34907"
      upper="0.34907"
      effort="0"
      velocity="0" />
  </joint>
  <link
    name="de6_22Link">
    <inertial>
      <origin
        xyz="0.0148353909299116 9.13588599762427E-05 -0.000183347623985836"
        rpy="0 0 0" />
      <mass
        value="0.00351900077154952" />
      <inertia
        ixx="1.29628985888473E-07"
        ixy="2.14583076956637E-16"
        ixz="-9.68687544612996E-14"
        iyy="1.84468323021719E-07"
        iyz="1.52525804203188E-11"
        izz="2.29316830686866E-07" />
    </inertial>
    <visual>
      <origin
        xyz="0 0 0"
        rpy="0 0 0" />
      <geometry>
        <mesh
          filename="package://robot_chef_prueba_v6/meshes/de6_22Link.STL" />
      </geometry>
      <material
        name="">
        <color
          rgba="0.792156862745098 0.819607843137255 0.933333333333333 1" />
      </material>
    </visual>
    <collision>
      <origin
        xyz="0 0 0"
        rpy="0 0 0" />
      <geometry>
        <mesh
          filename="package://robot_chef_prueba_v6/meshes/de6_22Link.STL" />
      </geometry>
    </collision>
  </link>
  <joint
    name="d6_22"
    type="fixed">
    <origin
      xyz="0.00794974817469313 0 -0.00494974633379874"
      rpy="-0.516777568930955 1.57079616220619 -0.516777568930957" />
    <parent
      link="de6_21Link" />
    <child
      link="de6_22Link" />
    <axis
      xyz="0 0 0" />
  </joint>
  <link
    name="de6_23Link">
    <inertial>
      <origin
        xyz="-0.0143971191713248 -9.1358857135293E-05 -0.000211045179795422"
        rpy="0 0 0" />
      <mass
        value="0.00488582803282171" />
      <inertia
        ixx="1.58268955272625E-07"
        ixy="4.99184321890936E-14"
        ixz="7.93591961877461E-11"
        iyy="3.94717166797713E-07"
        iyz="4.00086099587964E-12"
        izz="3.44839984171569E-07" />
    </inertial>
    <visual>
      <origin
        xyz="0 0 0"
        rpy="0 0 0" />
      <geometry>
        <mesh
          filename="package://robot_chef_prueba_v6/meshes/de6_23Link.STL" />
      </geometry>
      <material
        name="">
        <color
          rgba="0.792156862745098 0.819607843137255 0.933333333333333 1" />
      </material>
    </visual>
    <collision>
      <origin
        xyz="0 0 0"
        rpy="0 0 0" />
      <geometry>
        <mesh
          filename="package://robot_chef_prueba_v6/meshes/de6_23Link.STL" />
      </geometry>
    </collision>
  </link>
  <joint
    name="d6_23"
    type="revolute">
    <origin
      xyz="0.0244852813742383 0 0"
      rpy="0 0 3.14159265358979" />
    <parent
      link="de6_22Link" />
    <child
      link="de6_23Link" />
    <axis
      xyz="0 1 0" />
    <limit
      lower="-0.69813"
      upper="0"
      effort="0"
      velocity="0" />
  </joint>
  <link
    name="de6_24Link">
    <inertial>
      <origin
        xyz="0.0114388981646129 9.13588524593667E-05 -0.000158238200923283"
        rpy="0 0 0" />
      <mass
        value="0.00515270610968855" />
      <inertia
        ixx="1.99078387664653E-07"
        ixy="-5.94029780770128E-17"
        ixz="7.77933520492959E-16"
        iyy="3.04304173813713E-07"
        iyz="-1.12176703086075E-13"
        izz="3.22653911242147E-07" />
    </inertial>
    <visual>
      <origin
        xyz="0 0 0"
        rpy="0 0 0" />
      <geometry>
        <mesh
          filename="package://robot_chef_prueba_v6/meshes/de6_24Link.STL" />
      </geometry>
      <material
        name="">
        <color
          rgba="0.792156862745098 0.819607843137255 0.933333333333333 1" />
      </material>
    </visual>
    <collision>
      <origin
        xyz="0 0 0"
        rpy="0 0 0" />
      <geometry>
        <mesh
          filename="package://robot_chef_prueba_v6/meshes/de6_24Link.STL" />
      </geometry>
    </collision>
  </link>
  <joint
    name="d6_24"
    type="revolute">
    <origin
      xyz="-0.0299999999999704 0 -5.38898321483794E-05"
      rpy="0 0 3.14159265358979" />
    <parent
      link="de6_23Link" />
    <child
      link="de6_24Link" />
    <axis
      xyz="0 1 0" />
    <limit
      lower="0"
      upper="1.0472"
      effort="0"
      velocity="0" />
  </joint>
  <link
    name="de6_31Link">
    <inertial>
      <origin
        xyz="0.00223115001815949 9.13588712038171E-05 -0.00203813778826945"
        rpy="0 0 0" />
      <mass
        value="0.00676074066693875" />
      <inertia
        ixx="4.68716744960942E-07"
        ixy="1.32348898008484E-22"
        ixz="-5.22208025664766E-08"
        iyy="3.18601193816158E-07"
        iyz="-6.39743906989427E-22"
        izz="4.70560505030166E-07" />
    </inertial>
    <visual>
      <origin
        xyz="0 0 0"
        rpy="0 0 0" />
      <geometry>
        <mesh
          filename="package://robot_chef_prueba_v6/meshes/de6_31Link.STL" />
      </geometry>
      <material
        name="">
        <color
          rgba="0.792156862745098 0.819607843137255 0.933333333333333 1" />
      </material>
    </visual>
    <collision>
      <origin
        xyz="0 0 0"
        rpy="0 0 0" />
      <geometry>
        <mesh
          filename="package://robot_chef_prueba_v6/meshes/de6_31Link.STL" />
      </geometry>
    </collision>
  </link>
  <joint
    name="d6_31"
    type="revolute">
    <origin
      xyz="-0.1119999942478 0.0121000000622003 -0.020957814662131"
      rpy="1.57079632874939 1.04719755119661 1.57079632793218" />
    <parent
      link="de6_Link" />
    <child
      link="de6_31Link" />
    <axis
      xyz="0 1 0" />
    <limit
      lower="-0.34907"
      upper="0.34907"
      effort="0"
      velocity="0" />
  </joint>
  <link
    name="de6_32Link">
    <inertial>
      <origin
        xyz="0.0148356692831391 -9.1358876414982E-05 -0.000132435249014629"
        rpy="0 0 0" />
      <mass
        value="0.00351900075827936" />"0.792156862745098 0.819607843137255 0.933333333333333 1"
      <inertia
        ixx="1.29628985979513E-07"
        ixy="-6.52485844984895E-16"
        ixz="-3.59924605396673E-12"
        iyy="1.84468321490137E-07"
        iyz="1.52526941935924E-11"
        izz="2.29316828807764E-07" />
    </inertial>
    <visual>
      <origin
        xyz="0 0 0"
        rpy="0 0 0" />
      <geometry>
        <mesh
          filename="package://robot_chef_prueba_v6/meshes/de6_32Link.STL" />
      </geometry>
      <material
        name="">
        <color
          rgba="0.792156862745098 0.819607843137255 0.933333333333333 1" />
      </material>
    </visual>
    <collision>
      <origin
        xyz="0 0 0"
        rpy="0 0 0" />
      <geometry>
        <mesh
          filename="package://robot_chef_prueba_v6/meshes/de6_32Link.STL" />
      </geometry>
    </collision>
  </link>
  <joint
    name="d6_32"
    type="fixed">
    <origin
      xyz="0.00794974746830973 0 -0.00494974746830545"
      rpy="3.14159262778022 1.5707963267949 0" />
    <parent
      link="de6_31Link" />
    <child
      link="de6_32Link" />
    <axis
      xyz="0 0 0" />
  </joint>
  <link
    name="de6_33Link">
    <inertial>
      <origin
        xyz="-0.0139992013396397 9.13587618565082E-05 0.00320583964912968"
        rpy="0 0 0" />
      <mass
        value="0.00488582803282173" />
      <inertia
        ixx="1.68798617984625E-07"
        ixy="9.98855137903868E-13"
        ixz="4.30541810646074E-08"
        iyy="3.94717166797997E-07"
        iyz="3.87461584926457E-12"
        izz="3.34310321465542E-07" />
    </inertial>
    <visual>
      <origin
        xyz="0 0 0"
        rpy="0 0 0" />
      <geometry>
        <mesh
          filename="package://robot_chef_prueba_v6/meshes/de6_33Link.STL" />
      </geometry>
      <material
        name="">
        <color
          rgba="0.792156862745098 0.819607843137255 0.933333333333333 1" />
      </material>
    </visual>
    <collision>
      <origin
        xyz="0 0 0"
        rpy="0 0 0" />
      <geometry>
        <mesh
          filename="package://robot_chef_prueba_v6/meshes/de6_33Link.STL" />
      </geometry>
    </collision>
  </link>
  <joint
    name="d6_33"
    type="revolute">
    <origin
      xyz="0.0244852813742386 0 0"
      rpy="0 0 -3.14159265358979" />
    <parent
      link="de6_32Link" />
    <child
      link="de6_33Link" />
    <axis
      xyz="0 1 0" />
    <limit
      lower="0"
      upper="0.69813"
      effort="0"
      velocity="0" />
  </joint>
  <link
    name="de6_34Link">
    <inertial>
      <origin
        xyz="0.0105961227227442 -9.13588890312234E-05 0.00695894072393805"
        rpy="0 0 0" />
      <mass
        value="0.00515270610968853" />
      <inertia
        ixx="1.99078387664652E-07"
        ixy="-6.02093184731526E-17"
        ixz="6.39033067237191E-16"
        iyy="3.0430417381371E-07"
        iyz="-1.12176703562531E-13"
        izz="3.22653911242144E-07" />
    </inertial>
    <visual>
      <origin
        xyz="0 0 0"
        rpy="0 0 0" />
      <geometry>
        <mesh
          filename="package://robot_chef_prueba_v6/meshes/de6_34Link.STL" />
      </geometry>
      <material
        name="">
        <color
          rgba="0.792156862745098 0.819607843137255 0.933333333333333 1" />
      </material>
    </visual>
    <collision>
      <origin
        xyz="0 0 0"
        rpy="0 0 0" />
      <geometry>
        <mesh
          filename="package://robot_chef_prueba_v6/meshes/de6_34Link.STL" />
      </geometry>
    </collision>
  </link>
  <joint
    name="d6_34"
    type="revolute">
    <origin
      xyz="-0.03 0 -5.38897984281306E-05"
      rpy="0 0 -3.14159265358979" />
    <parent
      link="de6_33Link" />
    <child
      link="de6_34Link" />
    <axis
      xyz="0 1 0" />
    <limit
      lower="-1.0472"
      upper="0"
      effort="0"
      velocity="0" />
  </joint>
</robot>
